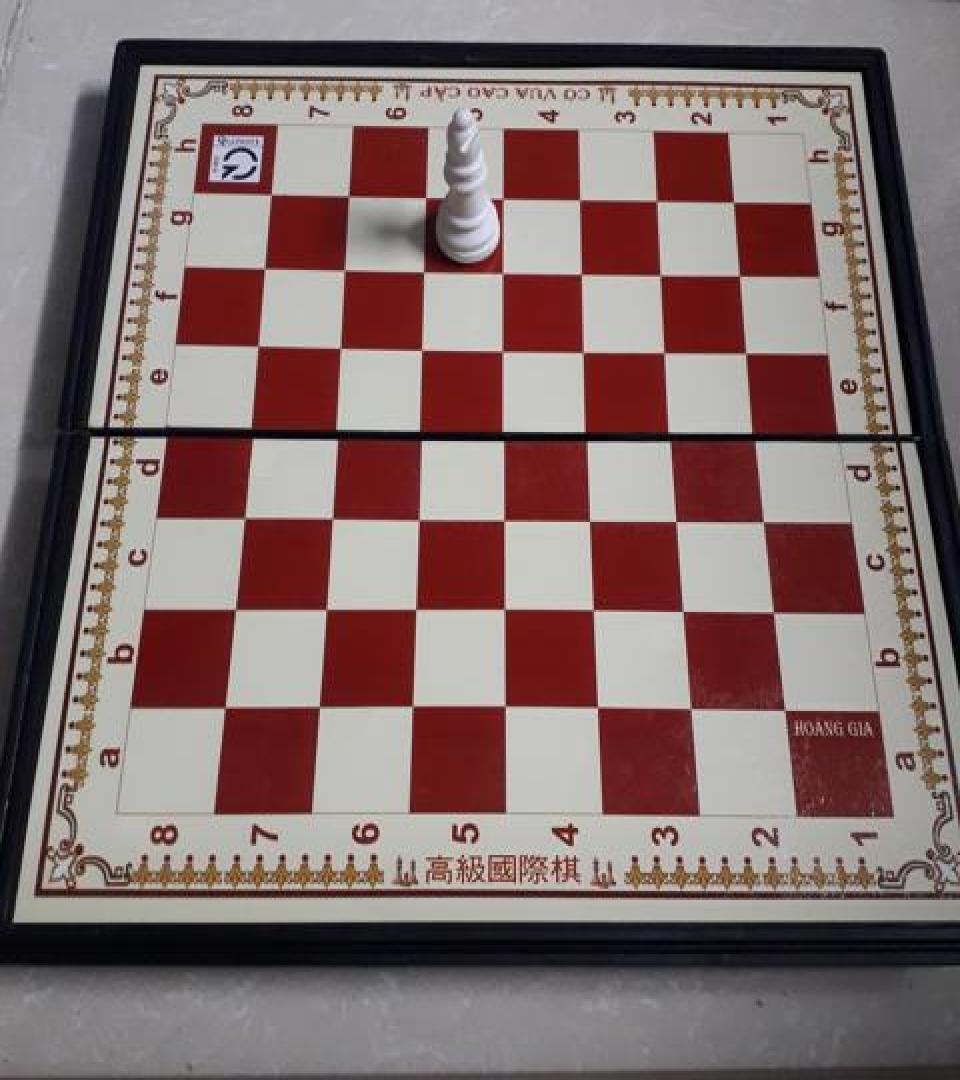xcorner: (583, 688, 615, 725), (676, 688, 708, 725), (769, 689, 801, 726), (490, 588, 522, 625), (209, 685, 241, 721), (303, 686, 335, 722), (397, 688, 429, 724), (490, 688, 522, 724), (219, 586, 251, 622), (309, 587, 341, 623), (400, 587, 432, 623), (580, 590, 612, 626), (669, 590, 701, 626), (759, 590, 791, 626), (227, 493, 259, 529), (315, 494, 347, 530), (402, 495, 434, 531), (489, 495, 521, 531), (576, 496, 608, 532), (663, 497, 695, 533), (750, 498, 782, 534), (235, 406, 267, 442), (320, 407, 352, 443), (404, 408, 436, 444), (489, 408, 521, 444), (573, 410, 605, 446), (657, 410, 689, 446), (741, 412, 773, 448), (242, 325, 274, 361), (325, 325, 357, 361), (407, 326, 439, 362), (488, 328, 520, 364), (651, 330, 683, 366), (733, 330, 765, 366), (250, 248, 282, 284), (329, 248, 361, 284), (409, 250, 441, 286), (488, 251, 520, 287), (567, 252, 599, 288), (646, 253, 678, 289), (725, 254, 757, 290), (256, 176, 288, 212), (333, 176, 365, 212), (411, 178, 443, 214), (488, 179, 520, 215), (564, 180, 596, 216), (641, 181, 673, 217), (718, 182, 750, 218), (570, 329, 602, 364)
